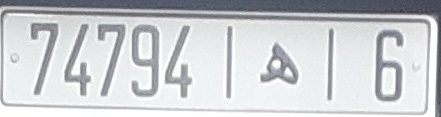4: (164, 23, 196, 99), (63, 22, 94, 98)
6: (374, 28, 407, 102)
7: (29, 19, 60, 98), (95, 23, 126, 98)
9: (129, 23, 161, 97)
h: (253, 41, 304, 88)
